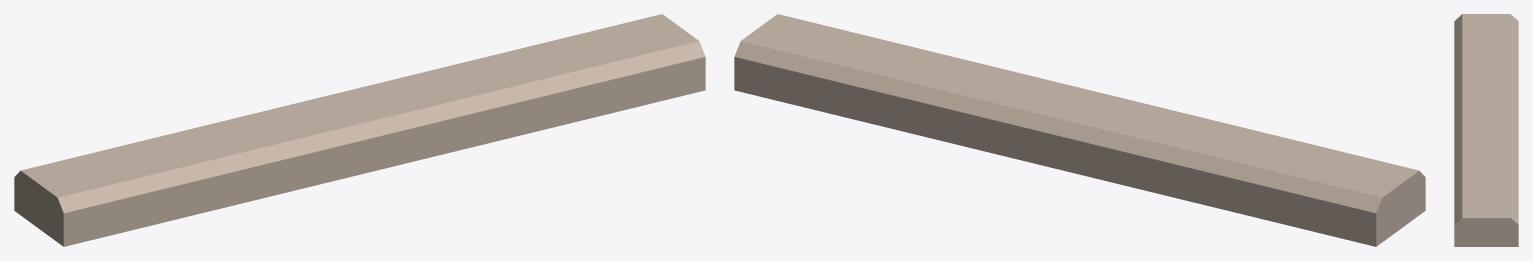
File: greek_wall_3_top.fbx
3 renders of one model, left to right at view 1: azimuth 30°, elevation 25°; view 2: azimuth 150°, elevation 25°; view 3: azimuth 270°, elevation 25°, orthographic. The views are drawn at different scales.
Visible parts, largest first — view 1: Cube.056; view 2: Cube.056; view 3: Cube.056.
Boxes of the visible parts, left/top/right/bottom form: Cube.056: left=14, top=14, right=705, bottom=246; Cube.056: left=734, top=14, right=1425, bottom=246; Cube.056: left=1454, top=14, right=1518, bottom=246.
Bounding box in the file's own units: 300 × 20 × 40.
